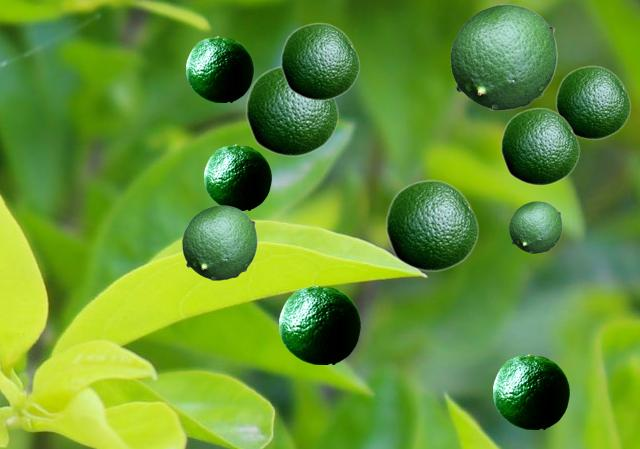calamansi: (450, 4, 556, 109), (385, 179, 478, 271), (245, 65, 338, 156), (279, 285, 359, 363), (280, 22, 359, 100), (500, 107, 579, 185), (555, 65, 630, 139), (493, 354, 568, 428), (182, 205, 256, 279), (204, 144, 270, 209), (186, 36, 252, 101), (509, 201, 561, 252)
